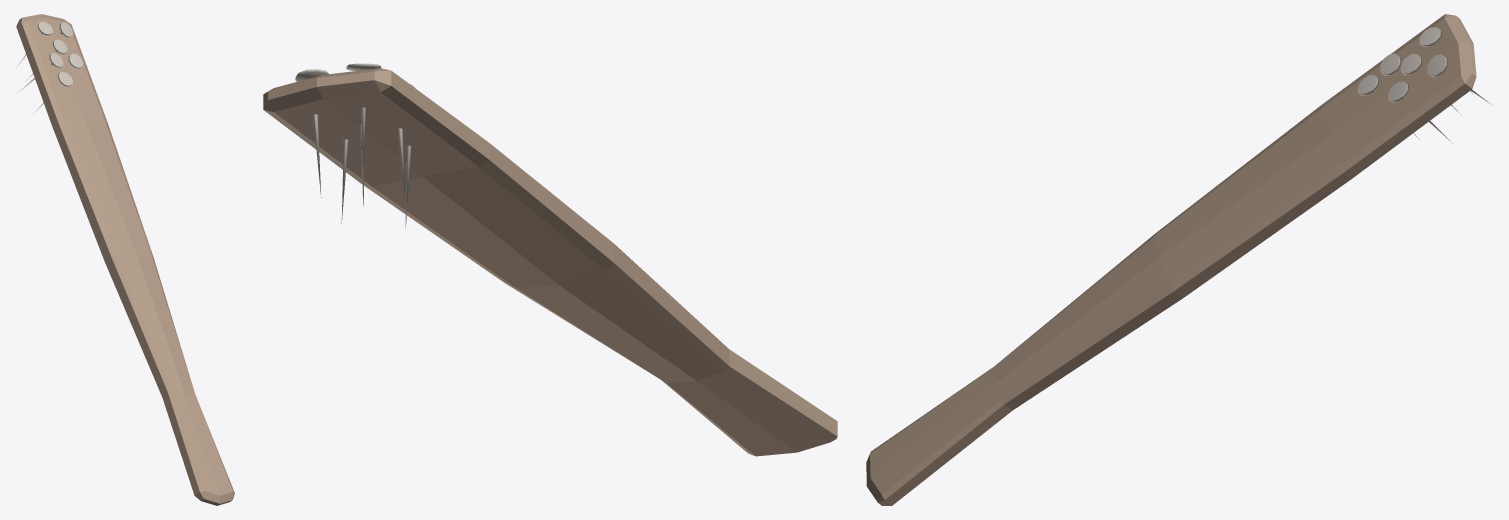
The model's file is nailBoard.fbx.
3 views of the same model, side by side, from view 1: azimuth 30°, elevation 25°; view 2: azimuth 150°, elevation 25°; view 3: azimuth 270°, elevation 25° (orthographic). The views are drawn at different scales.
Parts seen in each view (by area): view 1: woodPlank5; view 2: woodPlank5; view 3: woodPlank5.
Part boxes in pixels (x1,y1,x2,y2): woodPlank5: [16, 14, 234, 505]; woodPlank5: [263, 68, 837, 456]; woodPlank5: [866, 14, 1476, 505].
Size of the model in its own units: 1.01 by 3.98 by 4.66.
